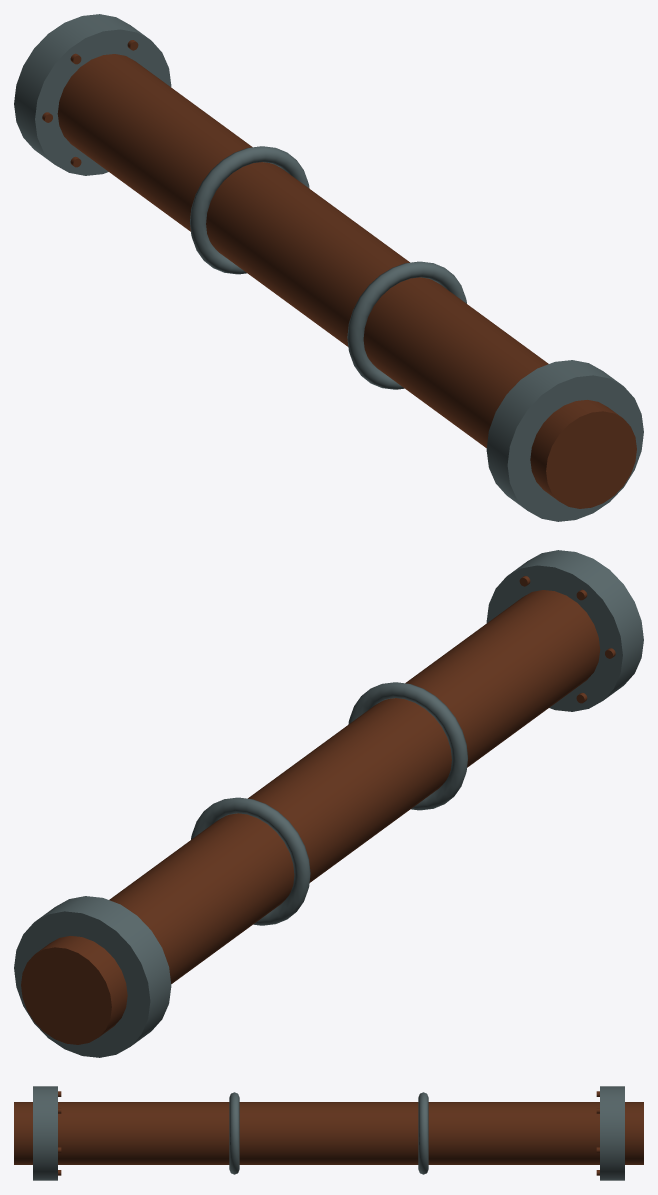
File: Pipe.obj
The picture shows the model from 3 angles, top to bottom: view 1: azimuth 30°, elevation 25°; view 2: azimuth 150°, elevation 25°; view 3: azimuth 270°, elevation 25°; orthographic projection. The views are drawn at different scales.
Parts seen in each view (by area): view 1: Pipe; view 2: Pipe; view 3: Pipe.
Part boxes in pixels (box(x1,y1,x2,y2)): Pipe: box(14, 14, 643, 521); Pipe: box(14, 550, 643, 1057); Pipe: box(14, 1086, 643, 1180).
Size of the model in its own units: 0.3 by 0.3 by 2.
